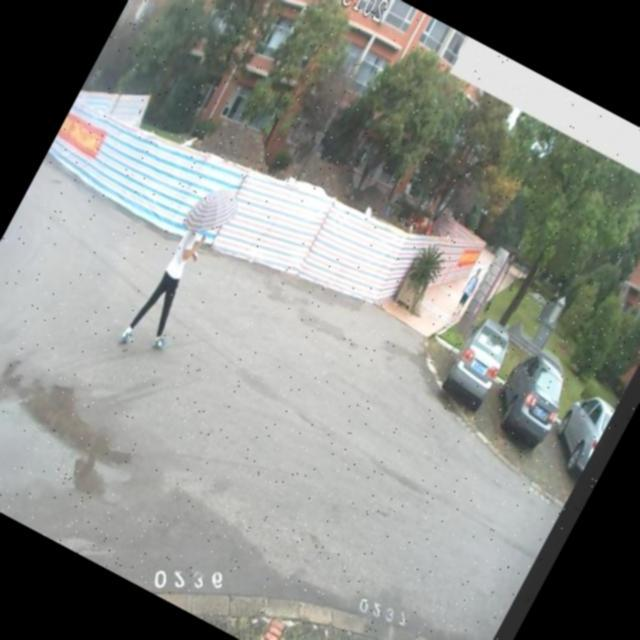person: (115, 176, 248, 364), (447, 262, 486, 320)
